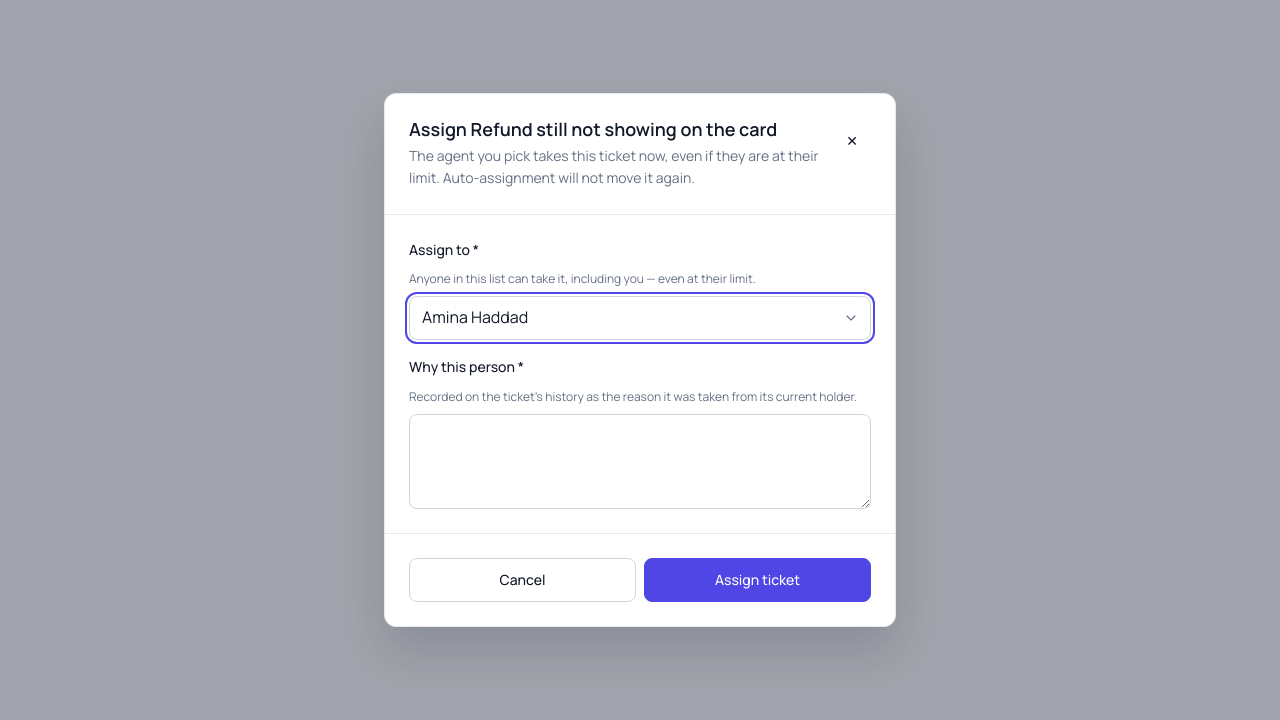
AssignFlaggedTicketDialog › still requires a reason for a ticket that has a holder
Click the button "Assign ticket": (758, 580) [644,558,871,602]
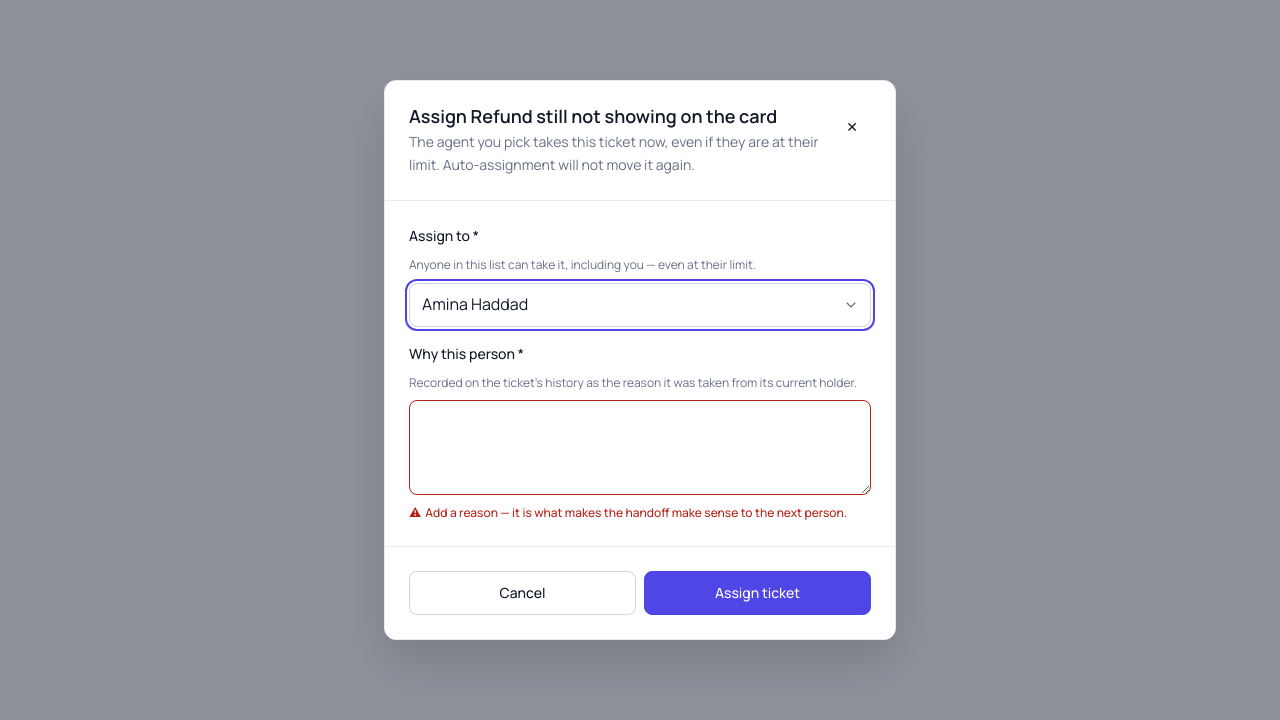
Result: the text "Add a reason — it is what makes the handoff make sense to the next person." is shown at [409,503,871,522]
